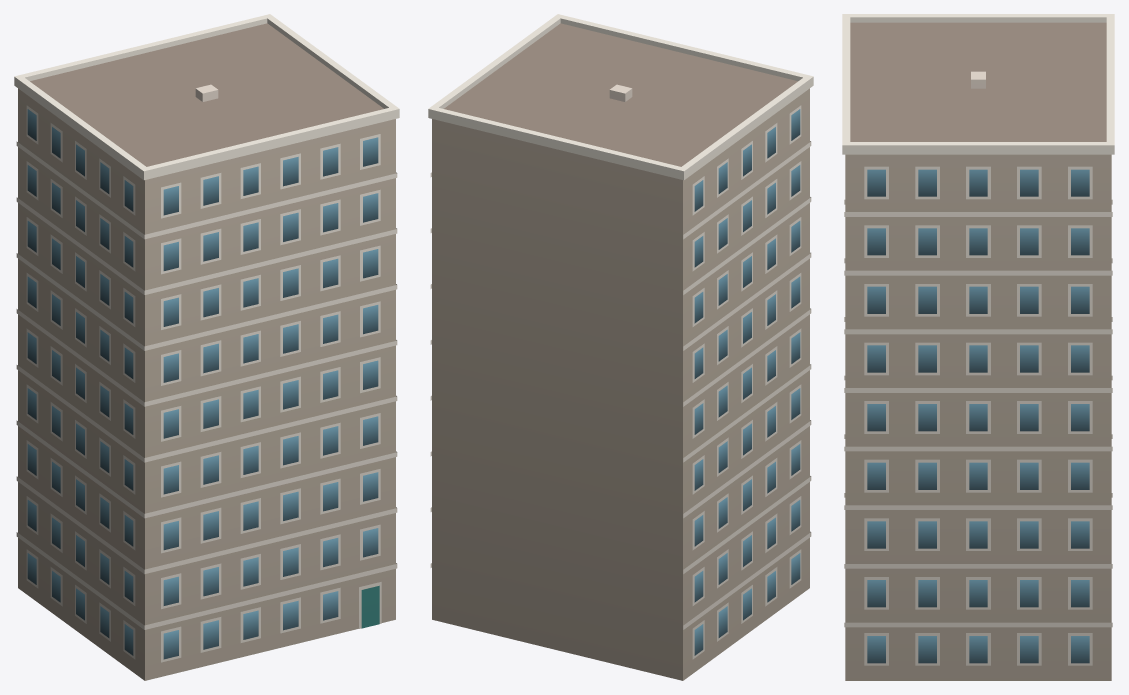
File: sky2_far.glb
The picture shows the model from 3 angles, left to right: view 1: azimuth 30°, elevation 25°; view 2: azimuth 150°, elevation 25°; view 3: azimuth 270°, elevation 25°; orthographic projection. The views are drawn at different scales.
Visible parts, largest first — view 1: sky2_far; view 2: sky2_far; view 3: sky2_far.
Part boxes in pixels (x1,y1,x2,y2): sky2_far: (14,14,399,680); sky2_far: (428,14,813,680); sky2_far: (842,14,1114,680).
Size of the model in its own units: 16.32 by 31.37 by 14.32.
Materials: 1 (1 with a texture image).
